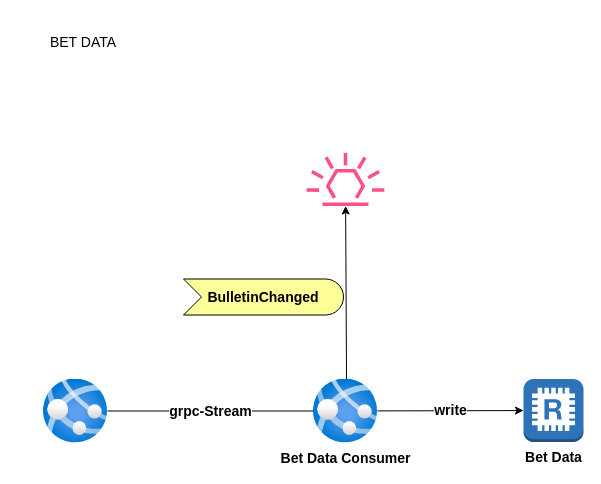
This 601x484 diagram has some shape labels left out. Here are the shapes that lost their labels. From the top down, the box of each, then its label:
(306, 152, 384, 206): RabbitMQ
(43, 378, 107, 442): Bet Data Provider
